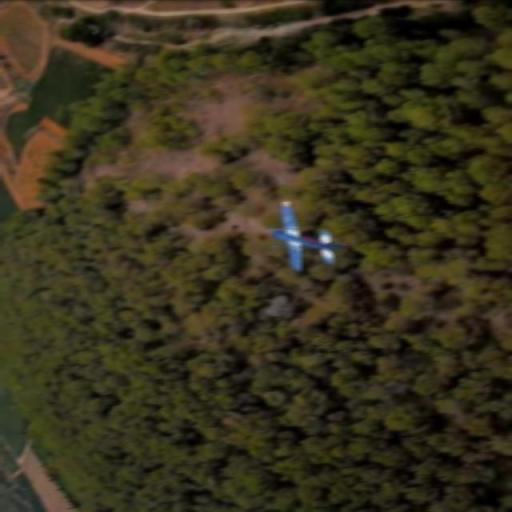uav: (268, 200, 351, 270)
